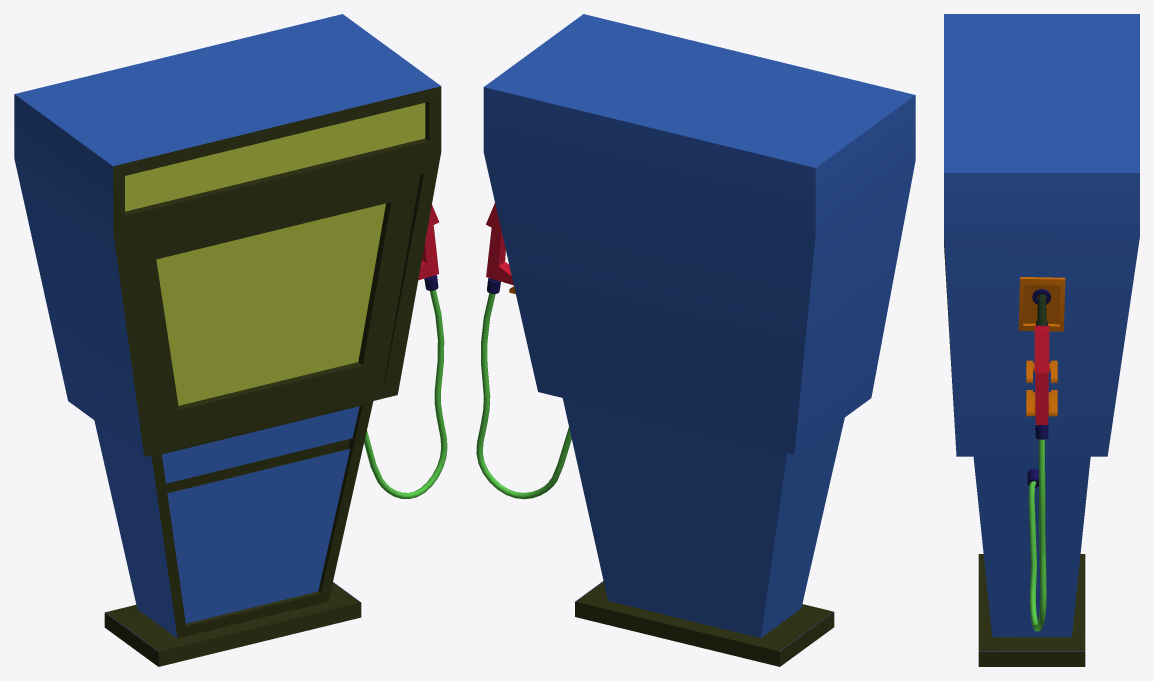
File: Gas Pump.fbx
3 renders of one model, left to right at view 1: azimuth 30°, elevation 25°; view 2: azimuth 150°, elevation 25°; view 3: azimuth 270°, elevation 25°, orthographic.
Parts seen in each view (by area): view 1: Pump, Nozzle; view 2: Pump, Nozzle; view 3: Pump, Nozzle.
Part boxes in pixels (box(x1,y1,x2,y2)): Pump: box(14, 14, 441, 666); Nozzle: box(364, 205, 447, 498); Pump: box(483, 14, 915, 666); Nozzle: box(476, 203, 571, 499); Pump: box(944, 14, 1139, 666); Nozzle: box(1018, 277, 1065, 631).
Size of the model in its own units: 168 by 74.99 by 222.
